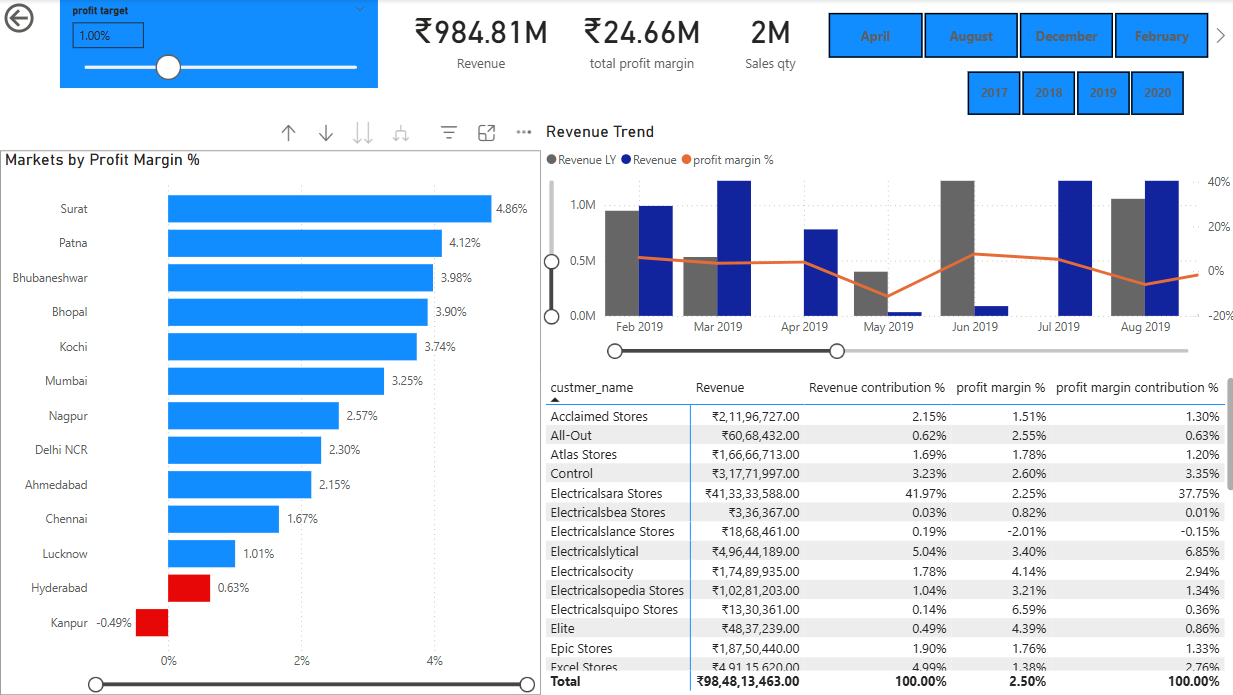

This screenshot's page, from the dashboard's own definition file:
{"tool":"powerbi","page":{"name":"Performance Insights","canvas":[1280,720],"ordinal":2},"visuals":[{"type":"slicer","fields":{"Values":["sales date.year"]},"box":[973.8,67.5,273,59.1],"z":0},{"type":"slicer","fields":{"Values":["sales date.month_name"]},"box":[830.3,7,441.9,60.5],"z":1000},{"type":"card","fields":{"Values":["measure_table.Revenue"]},"box":[402.5,0,188.6,81.6],"z":2000},{"type":"clusteredBarChart","title":"Markets by Profit Margin %","fields":{"Y":["measure_table.profit margin %"],"Category":["sales markets.zone","sales markets.markets_name"]},"box":[0,156.2,558.7,562.9],"z":3000},{"type":"card","fields":{"Values":["measure_table.Sales qty"]},"box":[744.4,0,102.7,81.6],"z":4000},{"type":"pivotTable","title":"Top 5 customers","fields":{"Rows":["sales customers.custmer_name"],"Values":["measure_table.Revenue","measure_table.Revenue contribution %","measure_table.profit margin %","measure_table.profit margin contribution %"]},"box":[558.7,385.6,721.9,333.5],"z":5000},{"type":"lineClusteredColumnComboChart","title":"Revenue Trend","fields":{"Y":["measure_table.Revenue LY","measure_table.Revenue"],"Y2":["measure_table.profit margin %"],"Category":["sales date.order_date"]},"box":[558.7,126.7,721.9,247.7],"z":6000},{"type":"card","fields":{"Values":["measure_table.total profit margin"]},"box":[591,0,143.5,81.6],"z":7000},{"type":"slicer","fields":{"Values":["profit target.profit target"]},"box":[61.9,0,327.9,91.5],"z":8000},{"type":"actionButton","box":[0,0,100,40],"z":8001}]}

Visuals, with their boxes in screenshot pixels (x1, y1, x2, y2), scaled from the page's 1280x720 canvas onto the 1233x695 screenshot:
slicer - sales date.year: bbox=(938, 65, 1201, 122)
slicer - sales date.month_name: bbox=(800, 7, 1225, 65)
card - measure_table.Revenue: bbox=(388, 0, 569, 79)
"Markets by Profit Margin %" clusteredBarChart: bbox=(0, 151, 538, 694)
card - measure_table.Sales qty: bbox=(717, 0, 816, 79)
"Top 5 customers" pivotTable: bbox=(538, 372, 1232, 694)
"Revenue Trend" lineClusteredColumnComboChart: bbox=(538, 122, 1232, 361)
card - measure_table.total profit margin: bbox=(569, 0, 708, 79)
slicer - profit target.profit target: bbox=(60, 0, 375, 88)
actionButton: bbox=(0, 0, 96, 39)
